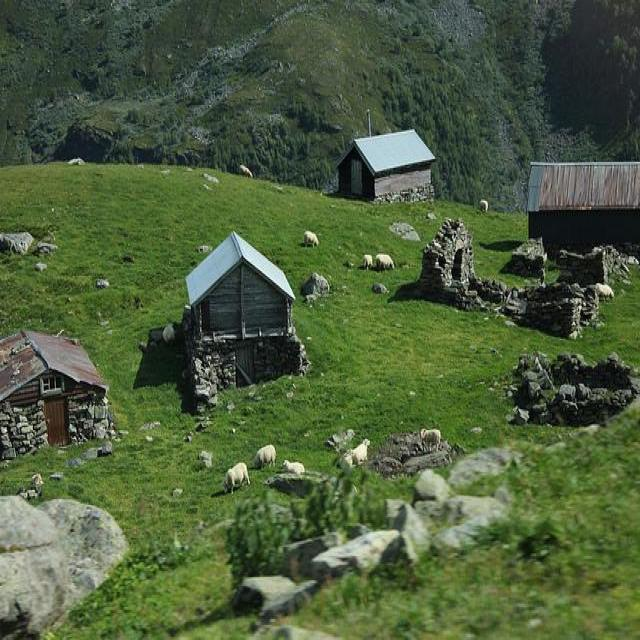Sheep: (254, 231, 394, 472)
